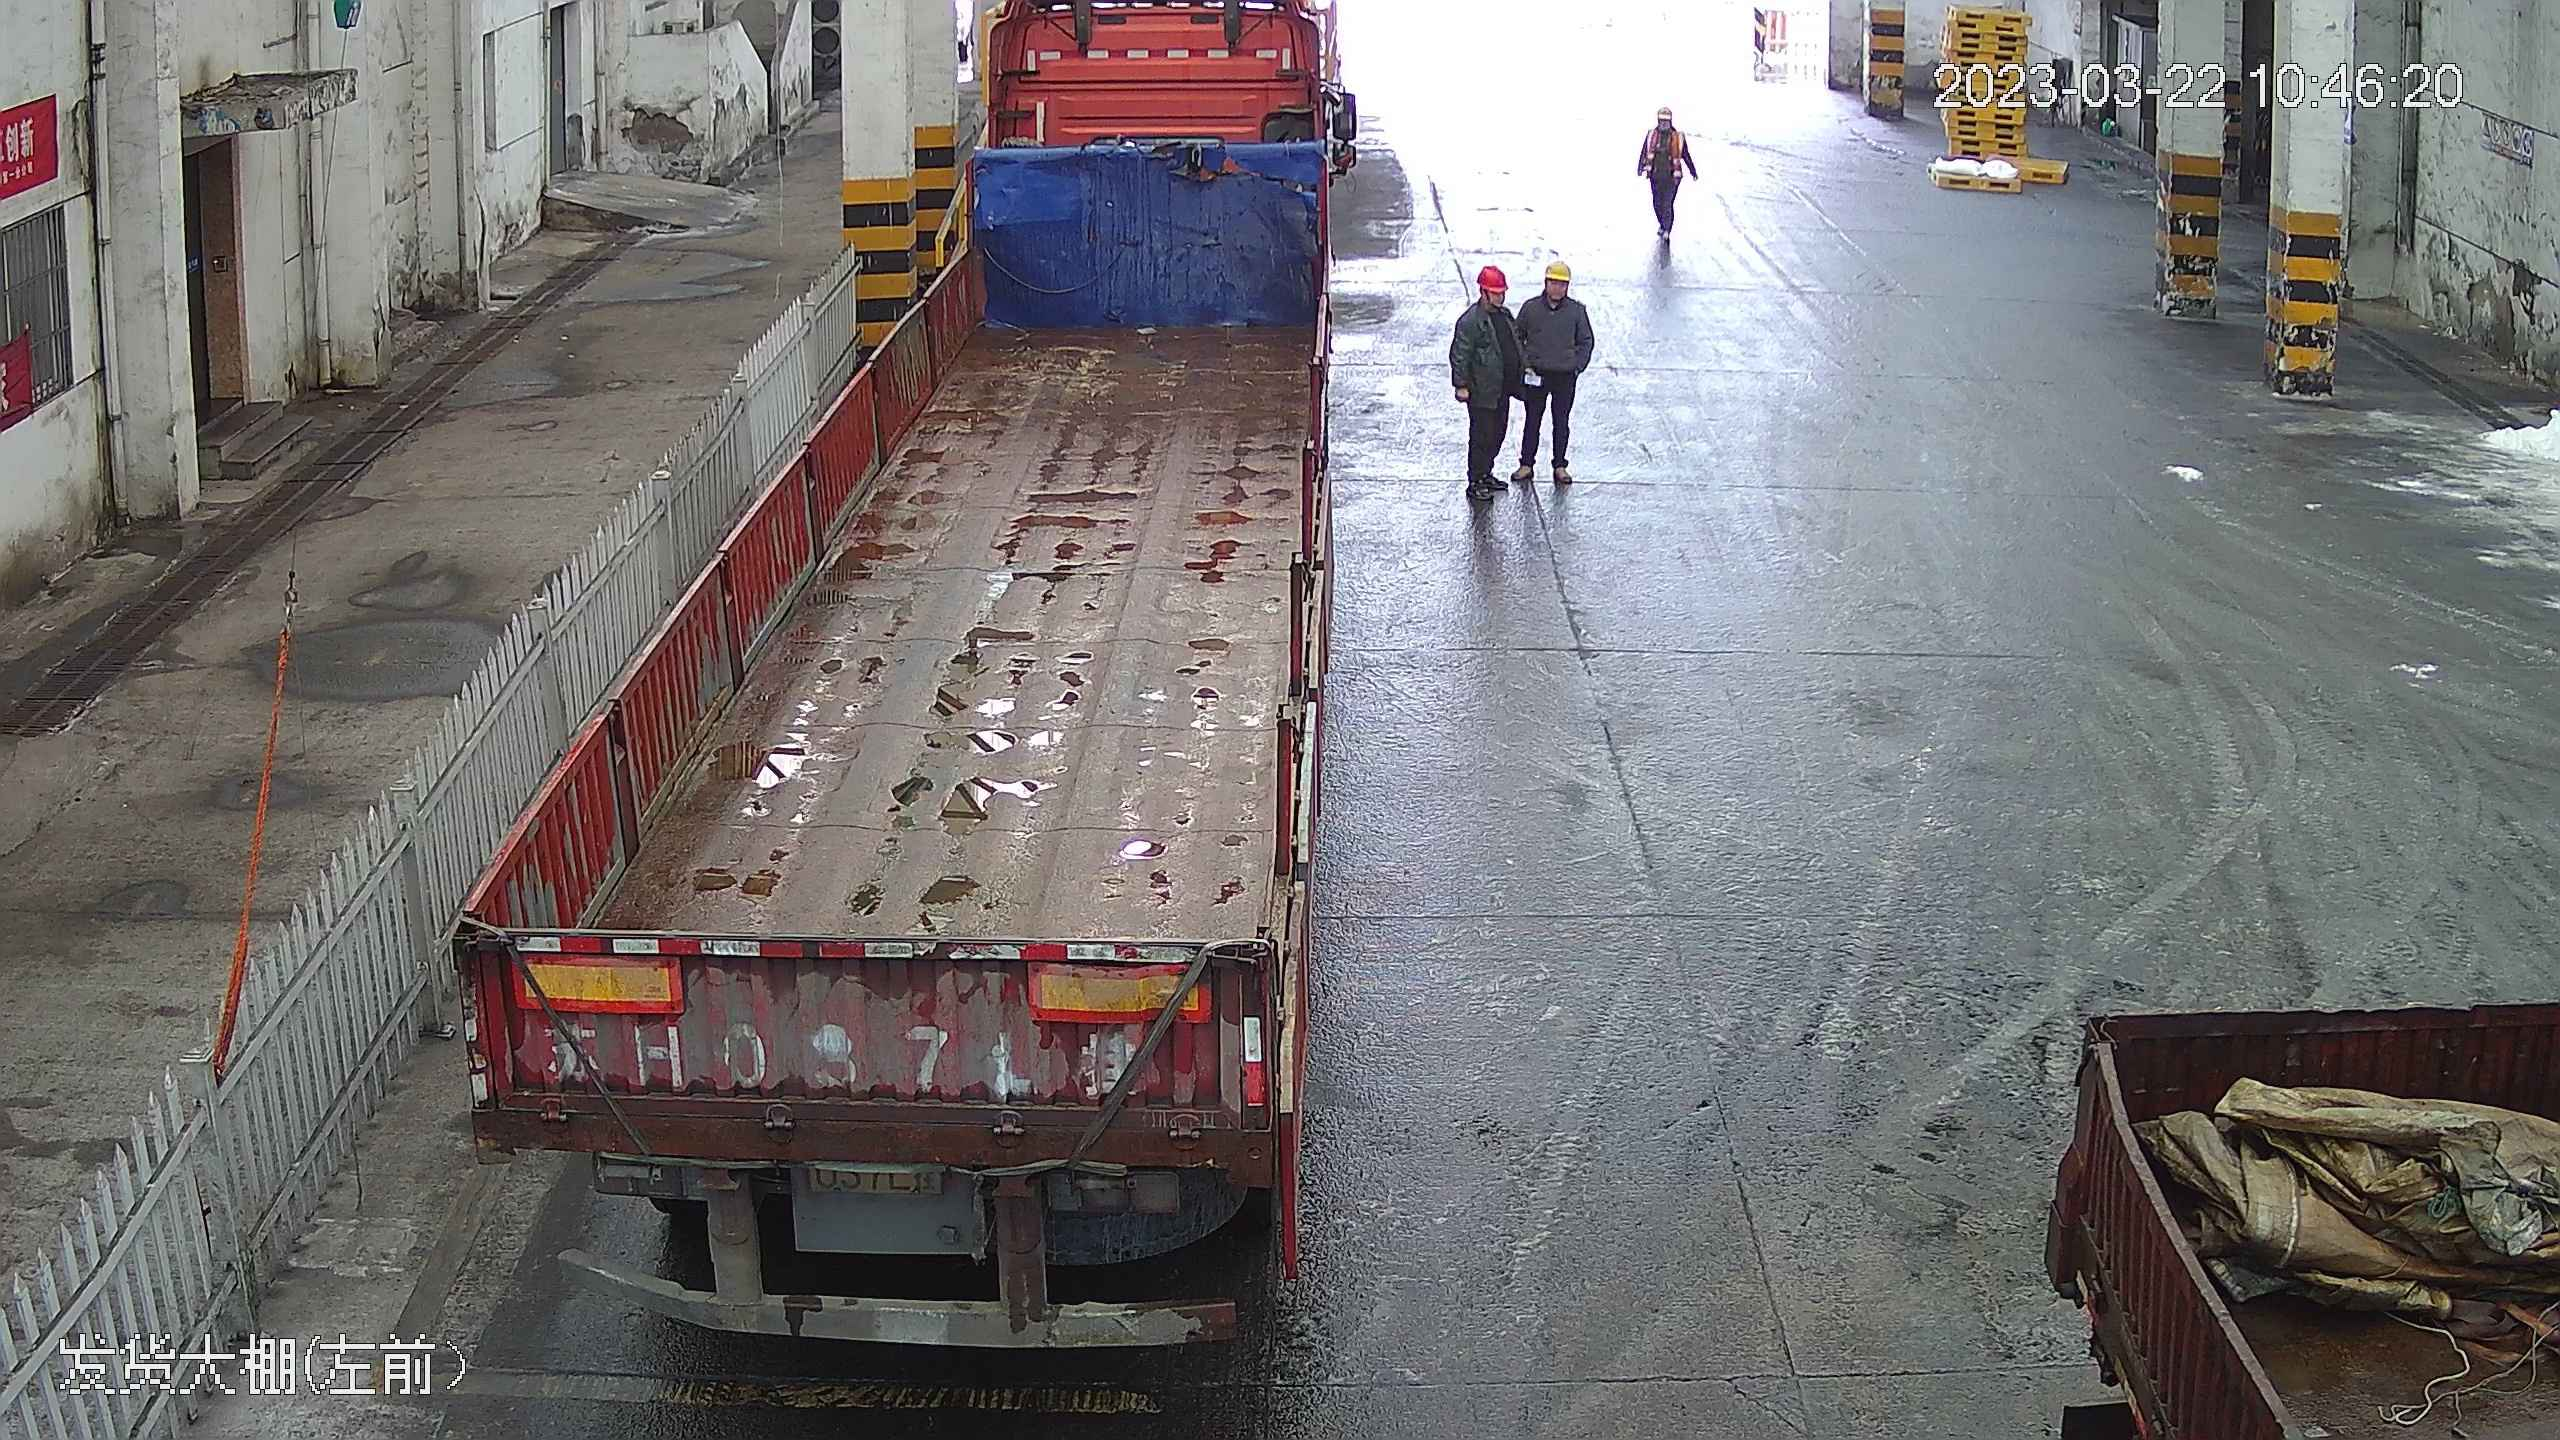head: (1453, 260, 1519, 336), (1517, 258, 1591, 326), (1640, 103, 1690, 153)
helmet: (1475, 262, 1508, 290), (1540, 258, 1574, 283), (1657, 104, 1674, 125)
people: (1510, 252, 1595, 496), (1448, 261, 1523, 526), (1633, 96, 1697, 271)
truck: (425, 1, 1386, 1343), (2032, 995, 2560, 1440)
